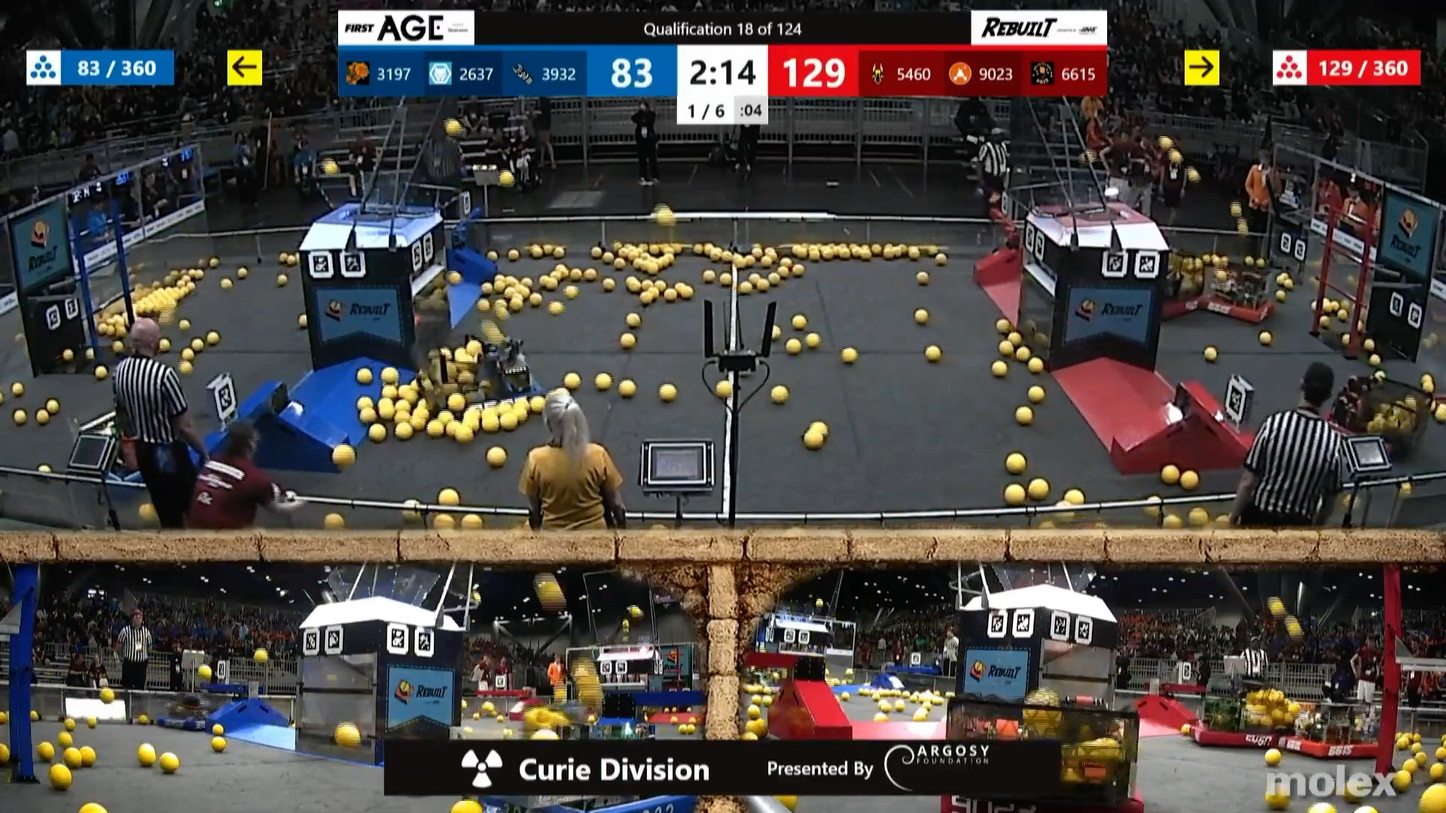bumpers: (414, 367, 551, 419), (1266, 717, 1392, 769), (1176, 706, 1292, 760), (1177, 283, 1283, 329), (153, 703, 237, 735)
